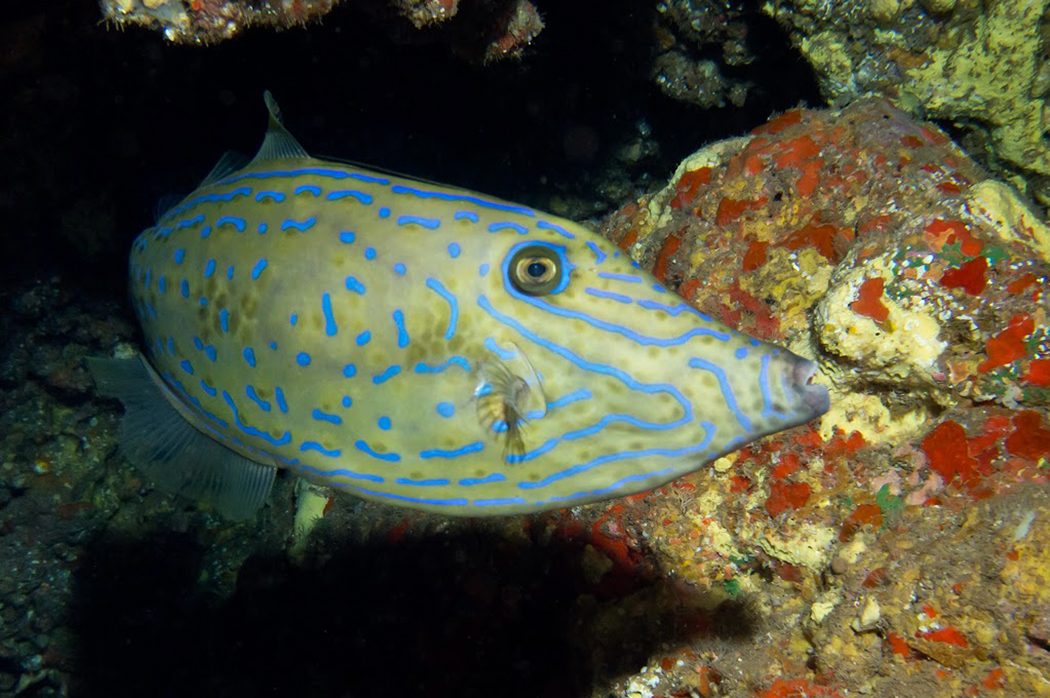Aluterus_scriptus: (79, 83, 860, 533)
